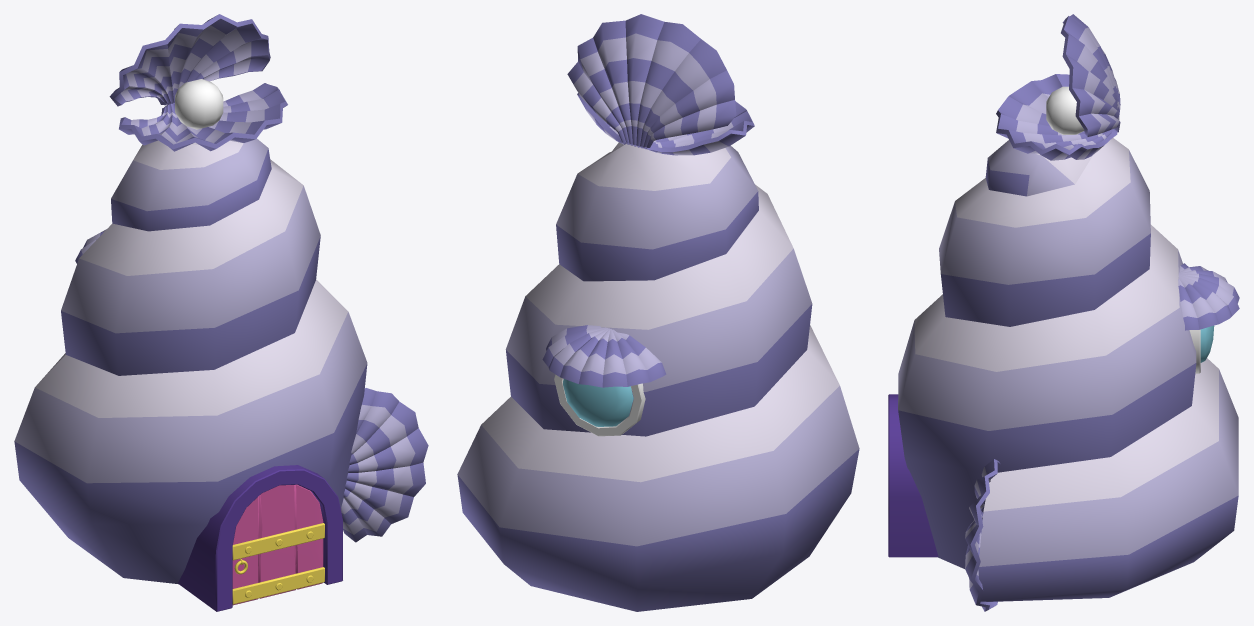
The model's file is House_3.fbx.
The picture shows the model from 3 angles, left to right: view 1: azimuth 30°, elevation 25°; view 2: azimuth 150°, elevation 25°; view 3: azimuth 270°, elevation 25°; orthographic projection. The views are drawn at different scales.
Parts seen in each view (by area): view 1: House_3; view 2: House_3; view 3: House_3.
Boxes of the visible parts, x1,y1,x2,y2 form: House_3: (14, 14, 428, 611); House_3: (457, 14, 859, 611); House_3: (888, 14, 1239, 611).
Bounding box in the file's own units: 1.85 × 2.8 × 1.71.
